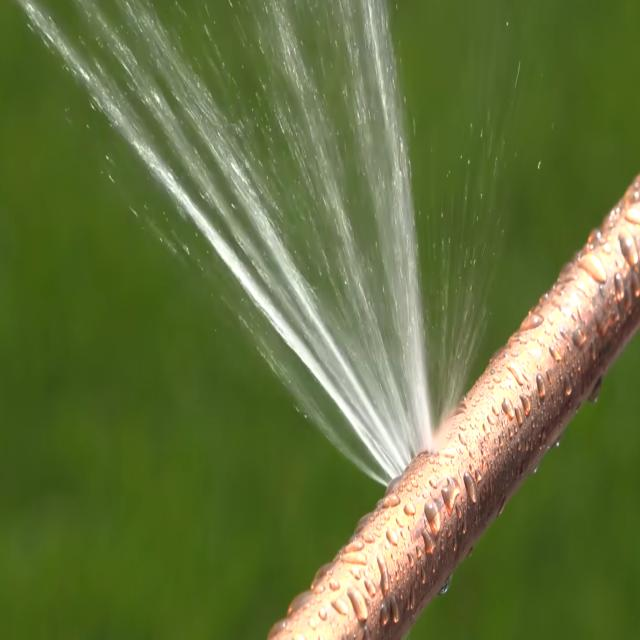leak: (21, 0, 432, 480)
